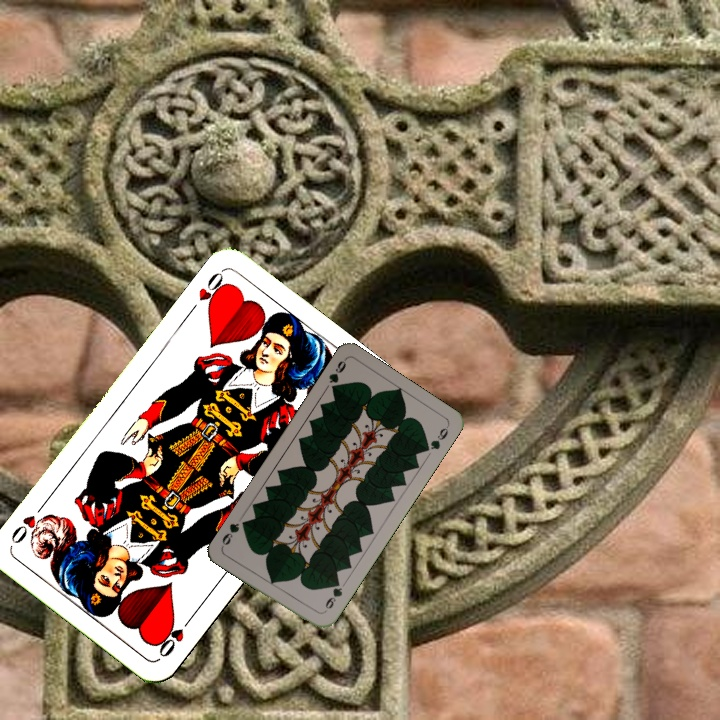G9: (319, 577, 345, 616), (325, 355, 349, 395)
HO: (184, 267, 231, 317), (154, 610, 197, 660)
